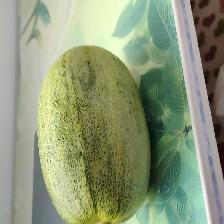gua: (48, 60, 134, 210)
